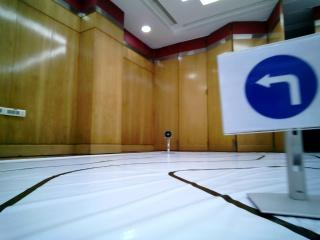left: (227, 54, 320, 123)
